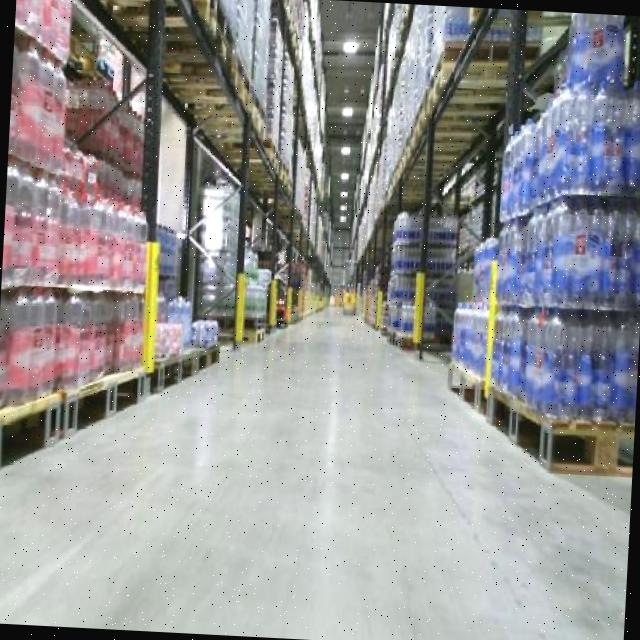pallet: (482, 388, 636, 498), (59, 348, 154, 470), (0, 375, 75, 498), (441, 356, 496, 422), (144, 348, 195, 405), (184, 338, 226, 386)
